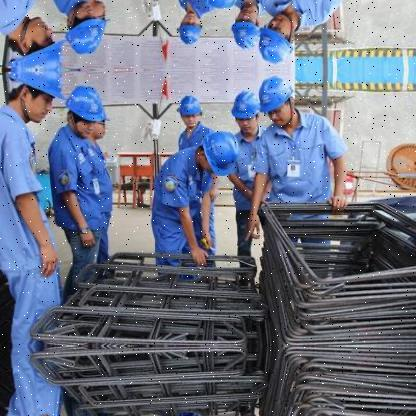helmet: (9, 70, 67, 118), (9, 18, 67, 66), (67, 78, 111, 136), (67, 0, 111, 58), (194, 131, 244, 173), (259, 70, 297, 122), (259, 14, 297, 66), (231, 84, 261, 134), (231, 2, 261, 52), (179, 90, 205, 127), (179, 10, 205, 47)
